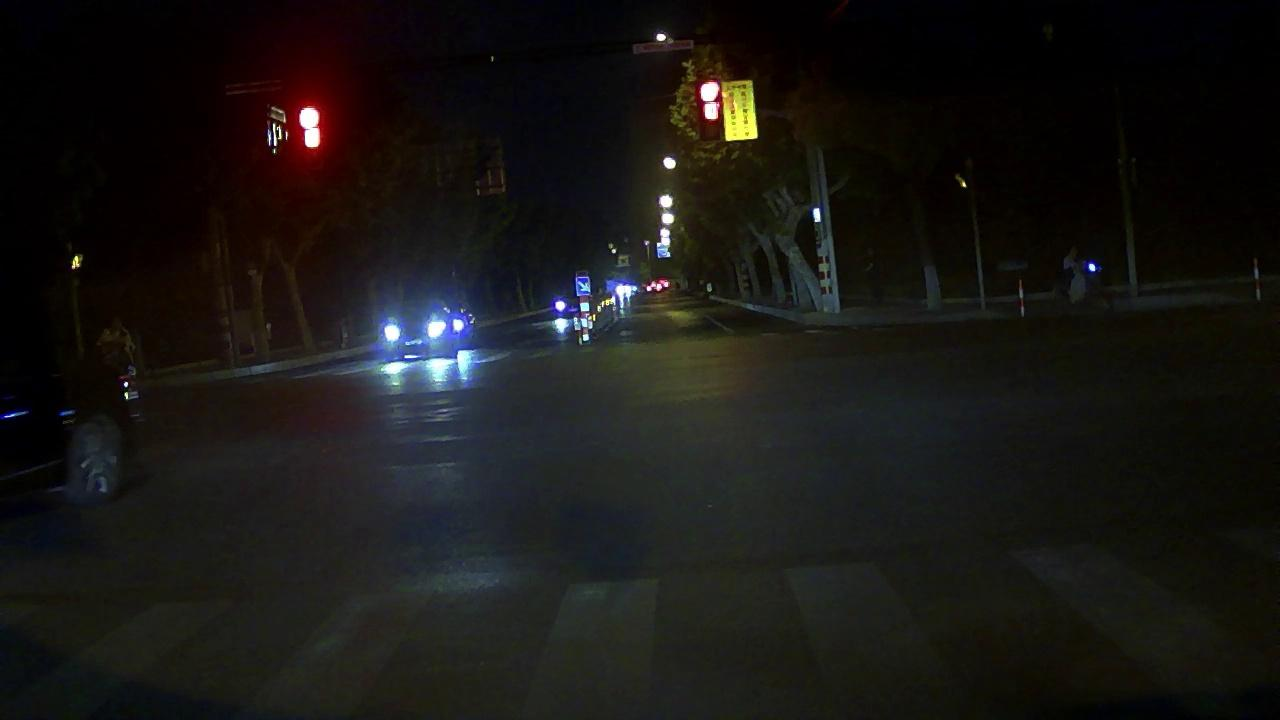traffic_light: (294, 100, 328, 151), (697, 75, 724, 124)
